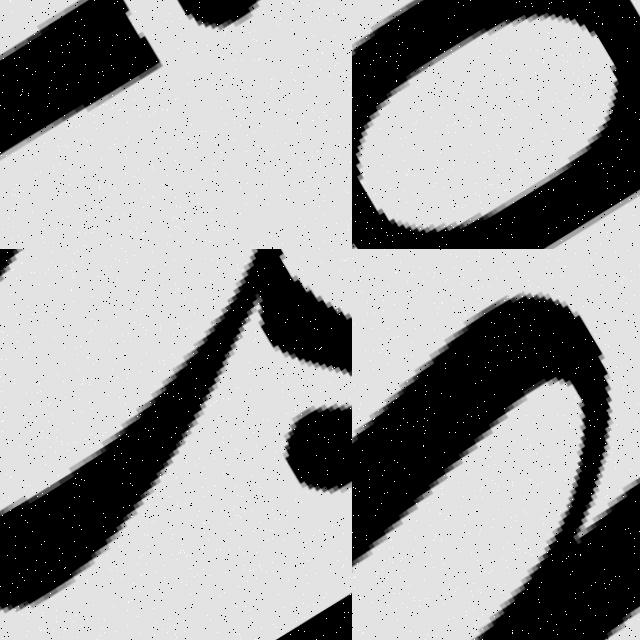I: (0, 0, 291, 249)
N: (352, 249, 640, 640)
P: (352, 0, 640, 249)
V: (0, 249, 352, 640)
